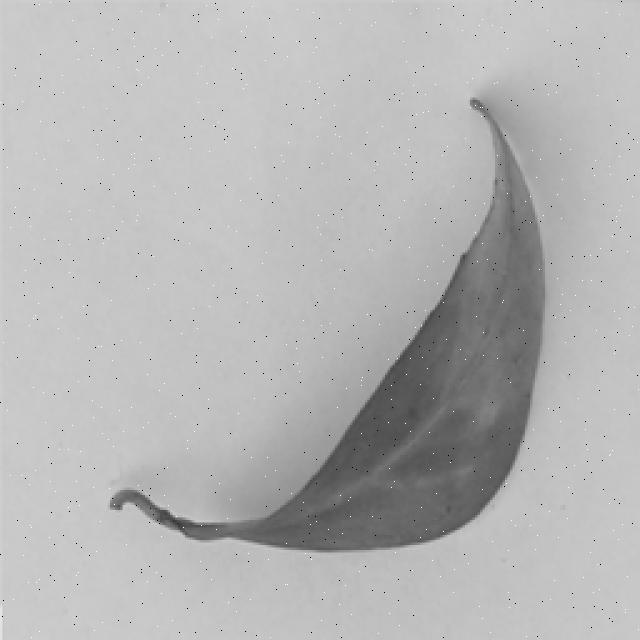greening: (107, 91, 559, 565)
